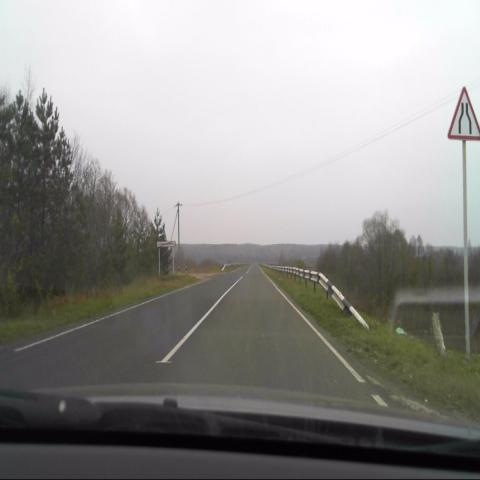1_20: (444, 87, 480, 143)
